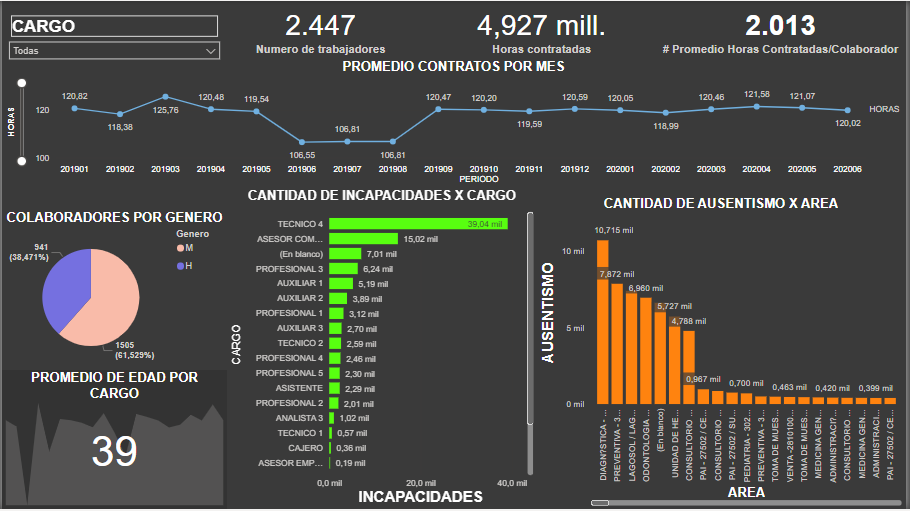

Layout of this report page (visuals, bound fields, positions):
{"tool":"powerbi","page":{"name":"Página 1","canvas":[1280,720],"ordinal":0},"visuals":[{"type":"card","fields":{"Values":["Count(Sheet1.id_colaborador)"]},"box":[300.5,0,301.9,82.2],"z":0},{"type":"card","fields":{"Values":["Sum(Sheet1.horas_contratadas)"]},"box":[602.4,0,324.6,82.2],"z":1000},{"type":"card","fields":{"Values":["Avg(Sheet1.promedio_horas)"]},"box":[926.9,0,352.9,82.2],"z":2000},{"type":"lineChart","title":"PROMEDIO CONTRATOS POR MES","fields":{"Y":["Avg(Sheet1.horas_contratadas)"],"Category":["Sheet1.periodo_y"]},"box":[0,82.2,1279.8,182.8],"z":3000},{"type":"pieChart","title":"COLABORADORES POR GENERO","fields":{"Category":["Sheet1.genero"],"Y":["Count(Sheet1.id_colaborador)"]},"box":[0,296.2,318.9,226.8],"z":4000},{"type":"lineStackedColumnComboChart","title":"CANTIDAD DE AUSENTISMO X AREA","fields":{"Y":["Sum(Sheet1.h_ausentismo)"],"Category":["Sheet1.area"]},"box":[758.3,276.4,521.6,443.6],"z":5000},{"type":"barChart","title":"CANTIDAD DE INCAPACIDADES X CARGO","fields":{"Category":["Sheet1.cargo"],"Y":["Sum(Sheet1.h_incapacidades)"]},"box":[318.9,265,439.4,455],"z":6000},{"type":"slicer","fields":{"Values":["Sheet1.cargo"]},"box":[0,15.6,318.9,93.5],"z":7000},{"type":"kpi","title":"PROMEDIO DE EDAD POR CARGO","fields":{"Indicator":["Avg(Sheet1.edad)"],"TrendLine":["Sheet1.cargo"]},"box":[0,523,318.9,197],"z":8000}]}

Visuals, with their boxes in screenshot pixels (x1, y1, x2, y2), scaled from the page's 1280x720 canvas onto the 910x511 screenshot:
card - Count(Sheet1.id_colaborador): [214,0,428,58]
card - Sum(Sheet1.horas_contratadas): [428,0,659,58]
card - Avg(Sheet1.promedio_horas): [659,0,909,58]
"PROMEDIO CONTRATOS POR MES" lineChart: [0,58,909,188]
"COLABORADORES POR GENERO" pieChart: [0,210,227,371]
"CANTIDAD DE AUSENTISMO X AREA" lineStackedColumnComboChart: [539,196,909,510]
"CANTIDAD DE INCAPACIDADES X CARGO" barChart: [227,188,539,510]
slicer - Sheet1.cargo: [0,11,227,77]
"PROMEDIO DE EDAD POR CARGO" kpi: [0,371,227,510]
